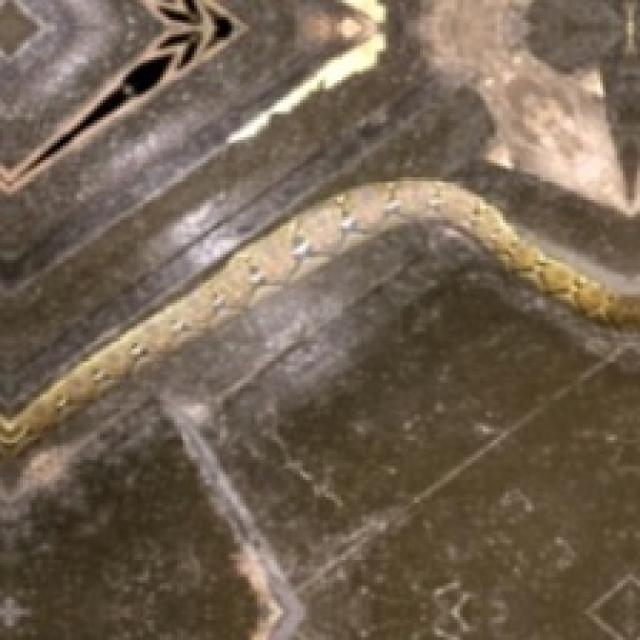reticulated python: (0, 177, 637, 454)
